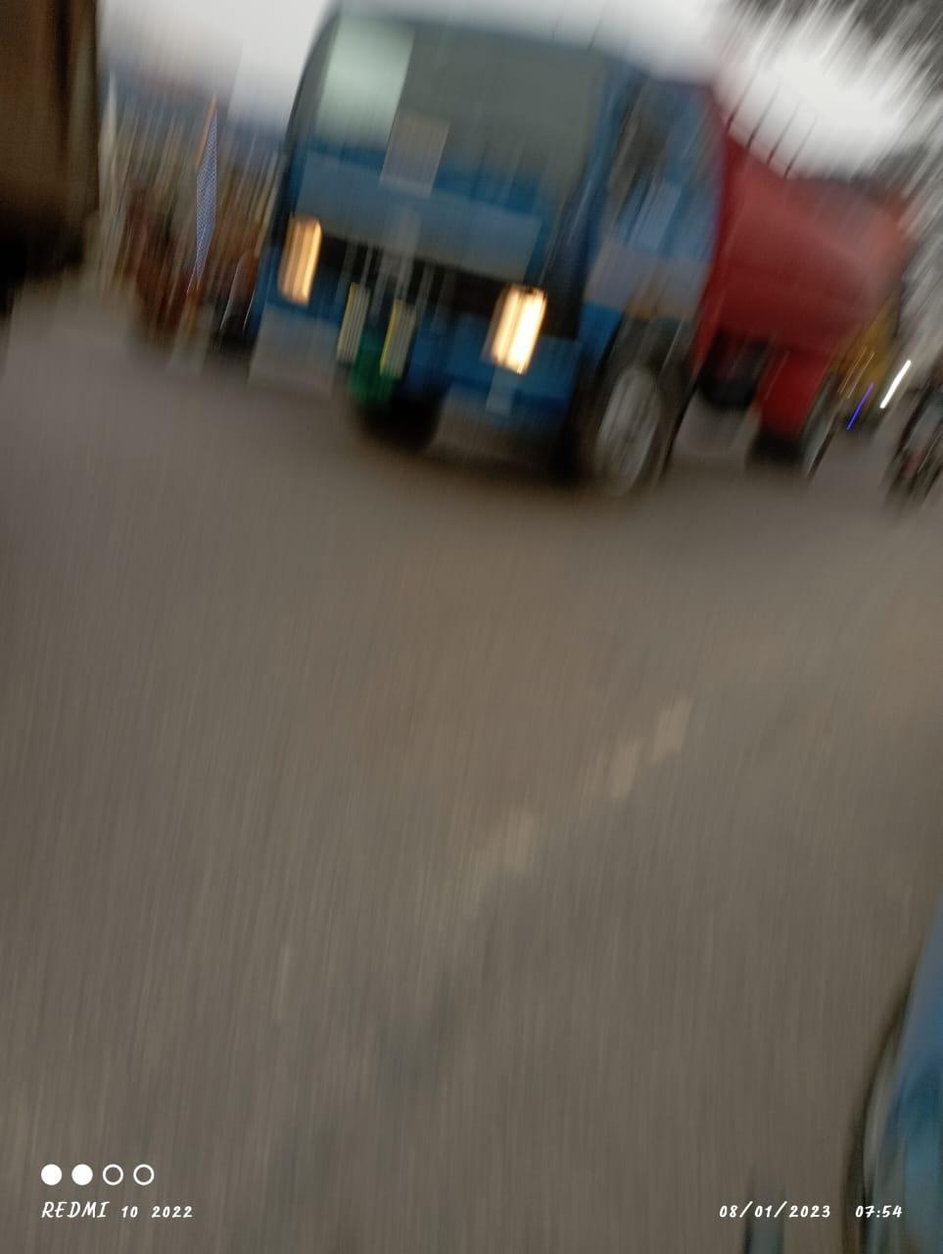Truck: (263, 9, 898, 514)
